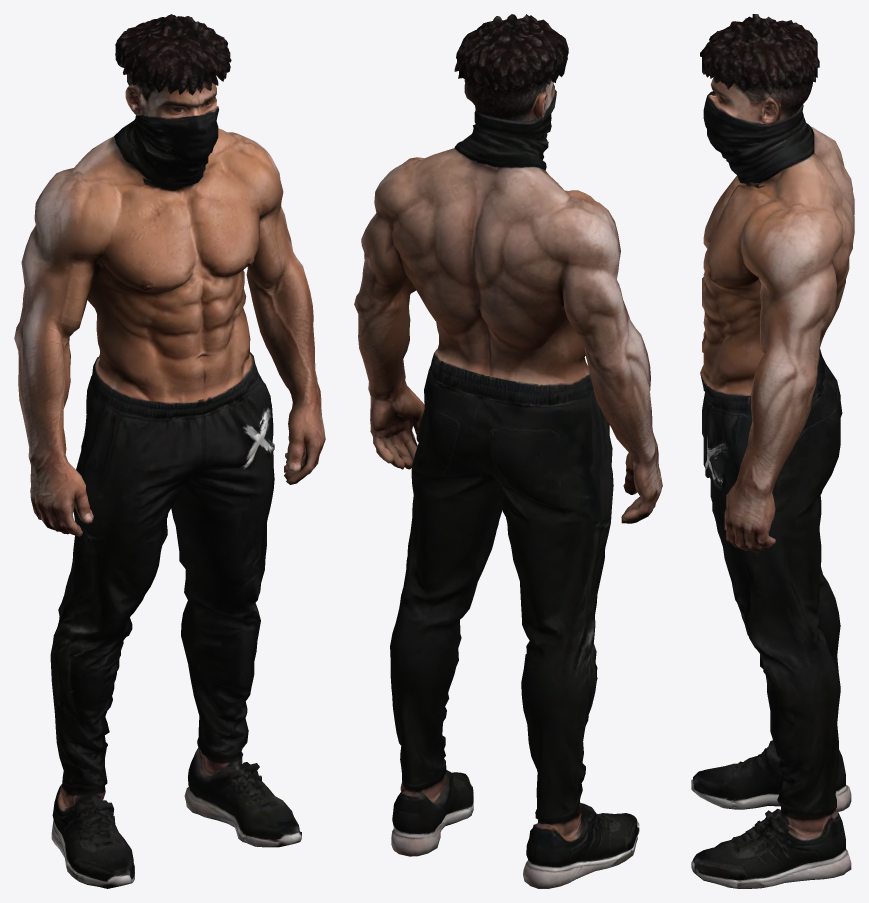
File: STRIKAX6-opt.glb
3 renders of one model, left to right at view 1: azimuth 30°, elevation 25°; view 2: azimuth 150°, elevation 25°; view 3: azimuth 270°, elevation 25°, orthographic.
Parts seen in each view (by area): view 1: tripo_node_dd1a2aed-4f83-466d-b362-51447477e00a; view 2: tripo_node_dd1a2aed-4f83-466d-b362-51447477e00a; view 3: tripo_node_dd1a2aed-4f83-466d-b362-51447477e00a.
Part boxes in pixels (x1=…): tripo_node_dd1a2aed-4f83-466d-b362-51447477e00a: x1=14, y1=14, x2=325, y2=888; tripo_node_dd1a2aed-4f83-466d-b362-51447477e00a: x1=354, y1=14, x2=662, y2=888; tripo_node_dd1a2aed-4f83-466d-b362-51447477e00a: x1=691, y1=14, x2=854, y2=888.
Size of the model in its own units: 0.3573 by 0.9766 by 0.1777.
Materials: 1 (1 with a texture image).
